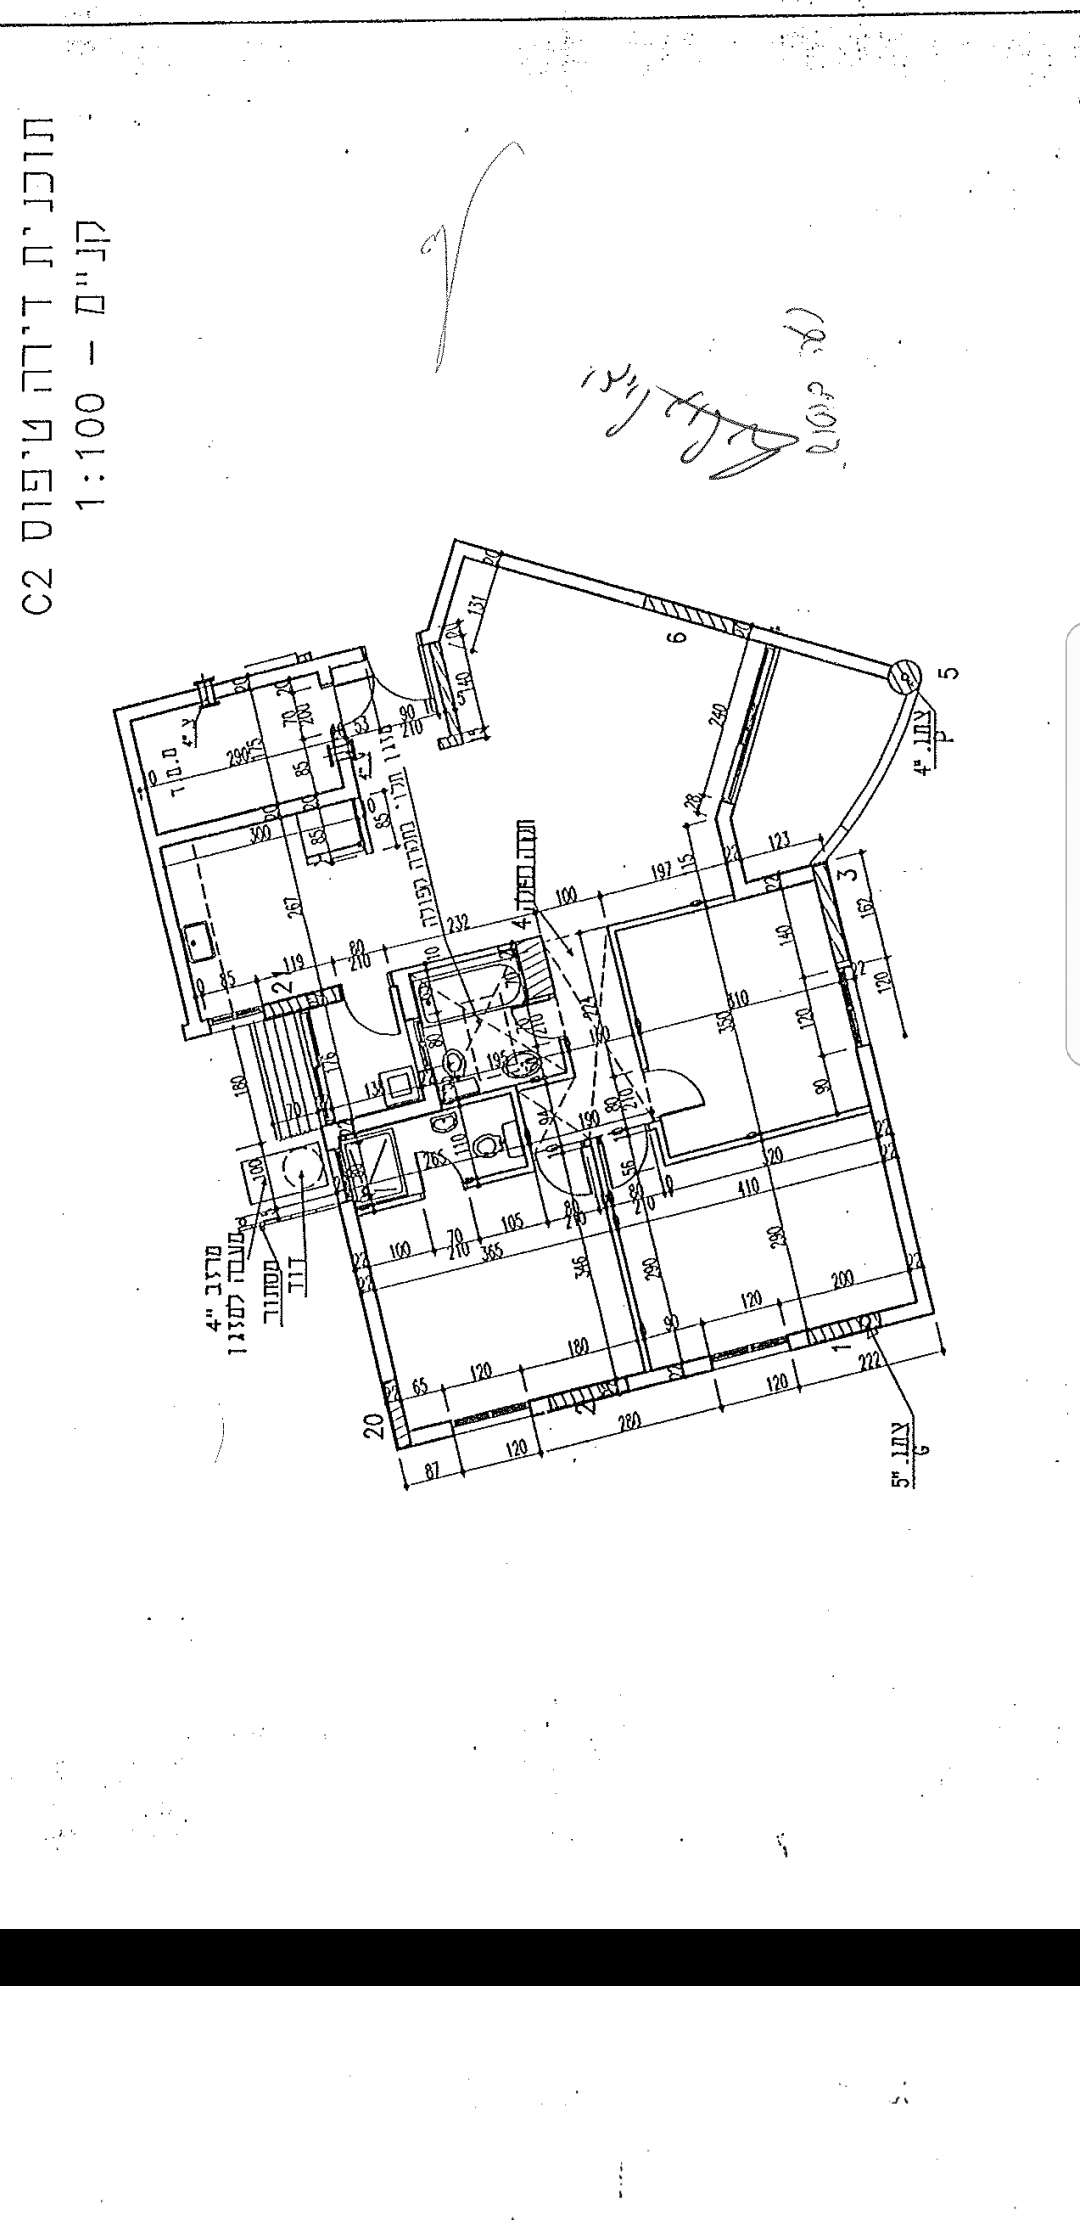door: (347, 988, 413, 1043), (402, 1140, 469, 1195), (528, 1145, 594, 1201), (604, 1131, 670, 1186), (648, 1065, 711, 1116)
